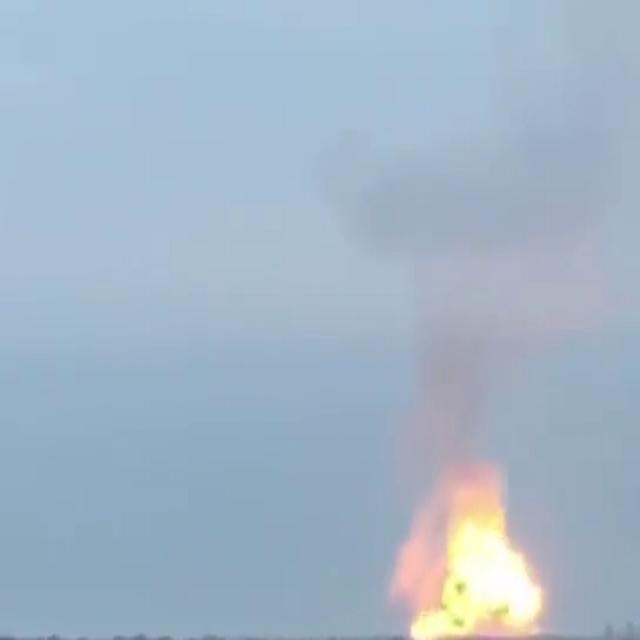Fire: (421, 493, 547, 637)
